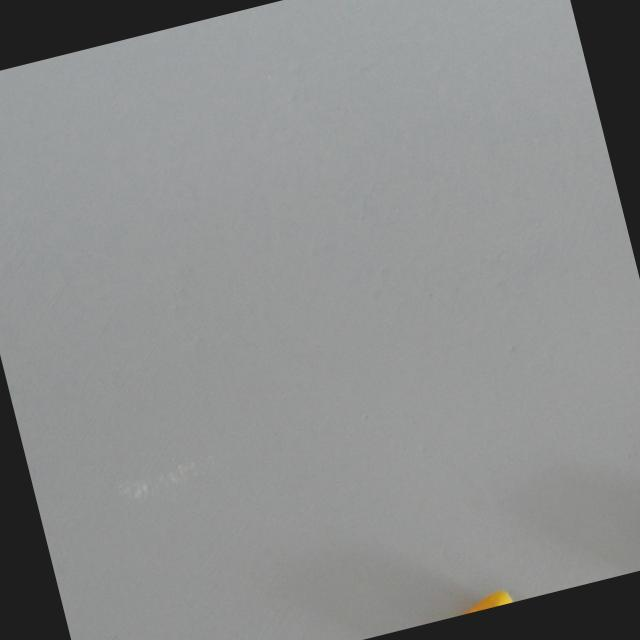no_canjicado: (437, 576, 548, 620)
